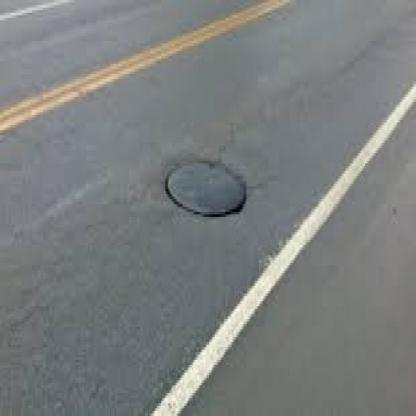closed manhole-not overflowing-: (163, 142, 243, 225)
